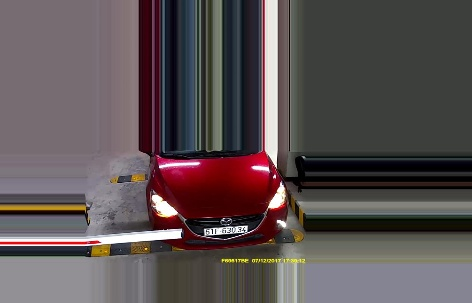plate: (201, 224, 248, 236)
